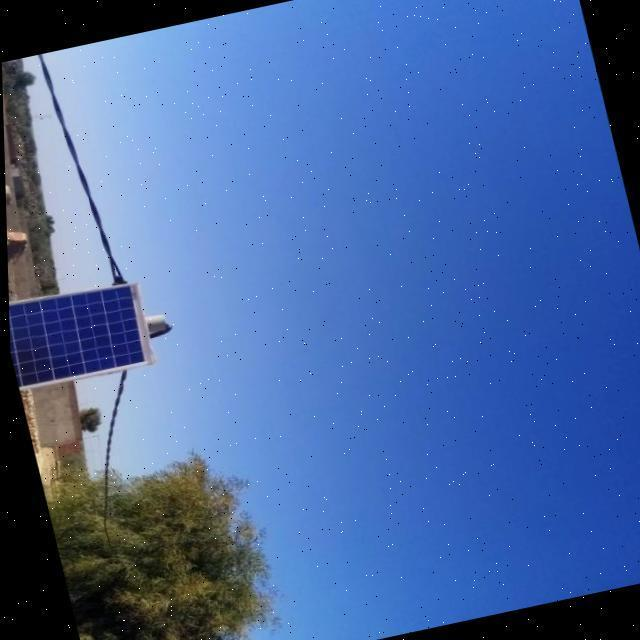Normal Solar Panel: (6, 272, 154, 390)
